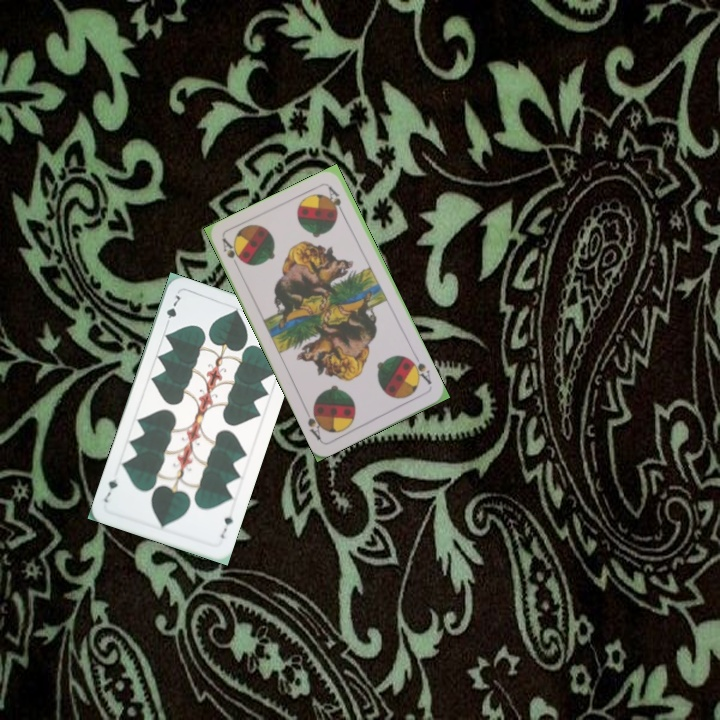G7: (161, 291, 183, 329), (216, 512, 235, 541)
SA: (218, 234, 245, 273), (405, 351, 434, 387)
